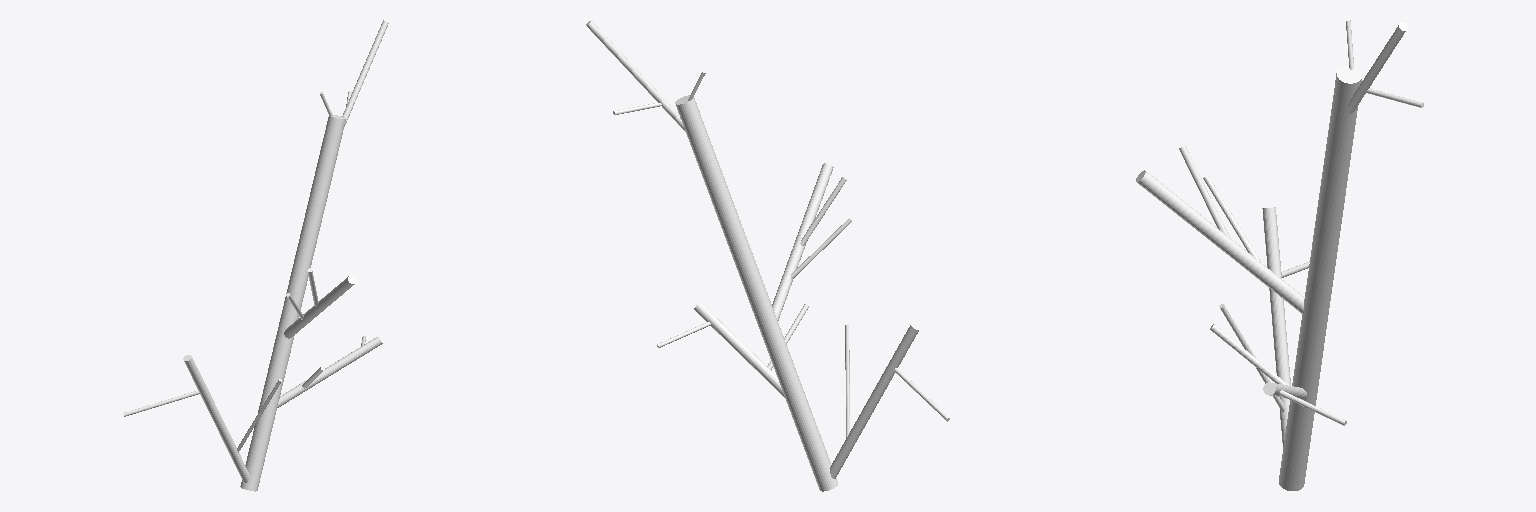
URDF robot description (tree_35.urdf):
<?xml version='1.0' encoding='UTF-8'?>
<robot name="tree_35.urdf">
  <link name="branch_0">
    <inertial>
      <origin xyz="0.0 0.0 0.0" rpy="0.0 -0.0 0.0"/>
      <mass value="1.0"/>
      <inertia ixx="1.0" ixy="0.0" ixz="0.0" iyy="1.0" iyz="0.0" izz="1.0"/>
    </inertial>
    <visual name="branch_0_visual">
      <geometry>
        <cylinder radius="0.20696832046787184" length="9.036256177488639"/>
      </geometry>
      <material name="branch_material"/>
      <origin xyz="1.4579056983918959 0.45953522203569236 4.251684346303879" rpy="1.3235847699879967e-17 0.34514073651780397 0.305344848157322"/>
    </visual>
    <collision name="branch_0_collision">
      <geometry>
        <cylinder radius="0.20696832046787184" length="9.036256177488639"/>
      </geometry>
      <origin xyz="1.4579056983918959 0.45953522203569236 4.251684346303879" rpy="1.3235847699879967e-17 0.34514073651780397 0.305344848157322"/>
    </collision>
  </link>
  <link name="branch_1">
    <inertial>
      <origin xyz="0.0 0.0 0.0" rpy="0.0 -0.0 0.0"/>
      <mass value="1.0"/>
      <inertia ixx="1.0" ixy="0.0" ixz="0.0" iyy="1.0" iyz="0.0" izz="1.0"/>
    </inertial>
    <visual name="branch_1_visual">
      <geometry>
        <cylinder radius="0.07491266490524999" length="3.5046742946559397"/>
      </geometry>
      <material name="branch_material"/>
      <origin xyz="0.0 0.0 0.0" rpy="0.0 -0.0 0.0"/>
    </visual>
    <collision name="branch_1_collision">
      <geometry>
        <cylinder radius="0.07491266490524999" length="3.5046742946559397"/>
      </geometry>
      <origin xyz="0.0 0.0 0.0" rpy="0.0 -0.0 0.0"/>
    </collision>
  </link>
  <link name="branch_2">
    <inertial>
      <origin xyz="0.0 0.0 0.0" rpy="0.0 -0.0 0.0"/>
      <mass value="1.0"/>
      <inertia ixx="1.0" ixy="0.0" ixz="0.0" iyy="1.0" iyz="0.0" izz="1.0"/>
    </inertial>
    <visual name="branch_2_visual">
      <geometry>
        <cylinder radius="0.04331342305844145" length="1.1438457299228255"/>
      </geometry>
      <material name="branch_material"/>
      <origin xyz="0.0 0.0 0.0" rpy="0.0 -0.0 0.0"/>
    </visual>
    <collision name="branch_2_collision">
      <geometry>
        <cylinder radius="0.04331342305844145" length="1.1438457299228255"/>
      </geometry>
      <origin xyz="0.0 0.0 0.0" rpy="0.0 -0.0 0.0"/>
    </collision>
  </link>
  <link name="branch_3">
    <inertial>
      <origin xyz="0.0 0.0 0.0" rpy="0.0 -0.0 0.0"/>
      <mass value="1.0"/>
      <inertia ixx="1.0" ixy="0.0" ixz="0.0" iyy="1.0" iyz="0.0" izz="1.0"/>
    </inertial>
    <visual name="branch_3_visual">
      <geometry>
        <cylinder radius="0.04" length="1.300570208248349"/>
      </geometry>
      <material name="branch_material"/>
      <origin xyz="0.0 0.0 0.0" rpy="0.0 -0.0 0.0"/>
    </visual>
    <collision name="branch_3_collision">
      <geometry>
        <cylinder radius="0.04" length="1.300570208248349"/>
      </geometry>
      <origin xyz="0.0 0.0 0.0" rpy="0.0 -0.0 0.0"/>
    </collision>
  </link>
  <link name="branch_4">
    <inertial>
      <origin xyz="0.0 0.0 0.0" rpy="0.0 -0.0 0.0"/>
      <mass value="1.0"/>
      <inertia ixx="1.0" ixy="0.0" ixz="0.0" iyy="1.0" iyz="0.0" izz="1.0"/>
    </inertial>
    <visual name="branch_4_visual">
      <geometry>
        <cylinder radius="0.10714742916243739" length="4.302904414673484"/>
      </geometry>
      <material name="branch_material"/>
      <origin xyz="0.0 0.0 0.0" rpy="0.0 -0.0 0.0"/>
    </visual>
    <collision name="branch_4_collision">
      <geometry>
        <cylinder radius="0.10714742916243739" length="4.302904414673484"/>
      </geometry>
      <origin xyz="0.0 0.0 0.0" rpy="0.0 -0.0 0.0"/>
    </collision>
  </link>
  <link name="branch_5">
    <inertial>
      <origin xyz="0.0 0.0 0.0" rpy="0.0 -0.0 0.0"/>
      <mass value="1.0"/>
      <inertia ixx="1.0" ixy="0.0" ixz="0.0" iyy="1.0" iyz="0.0" izz="1.0"/>
    </inertial>
    <visual name="branch_5_visual">
      <geometry>
        <cylinder radius="0.04305574032990792" length="2.5031812273833305"/>
      </geometry>
      <material name="branch_material"/>
      <origin xyz="0.0 0.0 0.0" rpy="0.0 -0.0 0.0"/>
    </visual>
    <collision name="branch_5_collision">
      <geometry>
        <cylinder radius="0.04305574032990792" length="2.5031812273833305"/>
      </geometry>
      <origin xyz="0.0 0.0 0.0" rpy="0.0 -0.0 0.0"/>
    </collision>
  </link>
  <link name="branch_6">
    <inertial>
      <origin xyz="0.0 0.0 0.0" rpy="0.0 -0.0 0.0"/>
      <mass value="1.0"/>
      <inertia ixx="1.0" ixy="0.0" ixz="0.0" iyy="1.0" iyz="0.0" izz="1.0"/>
    </inertial>
    <visual name="branch_6_visual">
      <geometry>
        <cylinder radius="0.04722481300612555" length="1.9477285338641974"/>
      </geometry>
      <material name="branch_material"/>
      <origin xyz="0.0 0.0 0.0" rpy="0.0 -0.0 0.0"/>
    </visual>
    <collision name="branch_6_collision">
      <geometry>
        <cylinder radius="0.04722481300612555" length="1.9477285338641974"/>
      </geometry>
      <origin xyz="0.0 0.0 0.0" rpy="0.0 -0.0 0.0"/>
    </collision>
  </link>
  <link name="branch_7">
    <inertial>
      <origin xyz="0.0 0.0 0.0" rpy="0.0 -0.0 0.0"/>
      <mass value="1.0"/>
      <inertia ixx="1.0" ixy="0.0" ixz="0.0" iyy="1.0" iyz="0.0" izz="1.0"/>
    </inertial>
    <visual name="branch_7_visual">
      <geometry>
        <cylinder radius="0.10415191692385113" length="3.0778891118124374"/>
      </geometry>
      <material name="branch_material"/>
      <origin xyz="0.0 0.0 0.0" rpy="0.0 -0.0 0.0"/>
    </visual>
    <collision name="branch_7_collision">
      <geometry>
        <cylinder radius="0.10415191692385113" length="3.0778891118124374"/>
      </geometry>
      <origin xyz="0.0 0.0 0.0" rpy="0.0 -0.0 0.0"/>
    </collision>
  </link>
  <link name="branch_8">
    <inertial>
      <origin xyz="0.0 0.0 0.0" rpy="0.0 -0.0 0.0"/>
      <mass value="1.0"/>
      <inertia ixx="1.0" ixy="0.0" ixz="0.0" iyy="1.0" iyz="0.0" izz="1.0"/>
    </inertial>
    <visual name="branch_8_visual">
      <geometry>
        <cylinder radius="0.055566261030643695" length="1.6836653443785623"/>
      </geometry>
      <material name="branch_material"/>
      <origin xyz="0.0 0.0 0.0" rpy="0.0 -0.0 0.0"/>
    </visual>
    <collision name="branch_8_collision">
      <geometry>
        <cylinder radius="0.055566261030643695" length="1.6836653443785623"/>
      </geometry>
      <origin xyz="0.0 0.0 0.0" rpy="0.0 -0.0 0.0"/>
    </collision>
  </link>
  <link name="branch_9">
    <inertial>
      <origin xyz="0.0 0.0 0.0" rpy="0.0 -0.0 0.0"/>
      <mass value="1.0"/>
      <inertia ixx="1.0" ixy="0.0" ixz="0.0" iyy="1.0" iyz="0.0" izz="1.0"/>
    </inertial>
    <visual name="branch_9_visual">
      <geometry>
        <cylinder radius="0.04413964249230568" length="1.3397467299520893"/>
      </geometry>
      <material name="branch_material"/>
      <origin xyz="0.0 0.0 0.0" rpy="0.0 -0.0 0.0"/>
    </visual>
    <collision name="branch_9_collision">
      <geometry>
        <cylinder radius="0.04413964249230568" length="1.3397467299520893"/>
      </geometry>
      <origin xyz="0.0 0.0 0.0" rpy="0.0 -0.0 0.0"/>
    </collision>
  </link>
  <link name="branch_10">
    <inertial>
      <origin xyz="0.0 0.0 0.0" rpy="0.0 -0.0 0.0"/>
      <mass value="1.0"/>
      <inertia ixx="1.0" ixy="0.0" ixz="0.0" iyy="1.0" iyz="0.0" izz="1.0"/>
    </inertial>
    <visual name="branch_10_visual">
      <geometry>
        <cylinder radius="0.11686449986985321" length="3.7576315222935524"/>
      </geometry>
      <material name="branch_material"/>
      <origin xyz="0.0 0.0 0.0" rpy="0.0 -0.0 0.0"/>
    </visual>
    <collision name="branch_10_collision">
      <geometry>
        <cylinder radius="0.11686449986985321" length="3.7576315222935524"/>
      </geometry>
      <origin xyz="0.0 0.0 0.0" rpy="0.0 -0.0 0.0"/>
    </collision>
  </link>
  <link name="branch_11">
    <inertial>
      <origin xyz="0.0 0.0 0.0" rpy="0.0 -0.0 0.0"/>
      <mass value="1.0"/>
      <inertia ixx="1.0" ixy="0.0" ixz="0.0" iyy="1.0" iyz="0.0" izz="1.0"/>
    </inertial>
    <visual name="branch_11_visual">
      <geometry>
        <cylinder radius="0.04897660889471773" length="1.8679926664004414"/>
      </geometry>
      <material name="branch_material"/>
      <origin xyz="0.0 0.0 0.0" rpy="0.0 -0.0 0.0"/>
    </visual>
    <collision name="branch_11_collision">
      <geometry>
        <cylinder radius="0.04897660889471773" length="1.8679926664004414"/>
      </geometry>
      <origin xyz="0.0 0.0 0.0" rpy="0.0 -0.0 0.0"/>
    </collision>
  </link>
  <link name="branch_12">
    <inertial>
      <origin xyz="0.0 0.0 0.0" rpy="0.0 -0.0 0.0"/>
      <mass value="1.0"/>
      <inertia ixx="1.0" ixy="0.0" ixz="0.0" iyy="1.0" iyz="0.0" izz="1.0"/>
    </inertial>
    <visual name="branch_12_visual">
      <geometry>
        <cylinder radius="0.05675337794247292" length="1.793124045749528"/>
      </geometry>
      <material name="branch_material"/>
      <origin xyz="0.0 0.0 0.0" rpy="0.0 -0.0 0.0"/>
    </visual>
    <collision name="branch_12_collision">
      <geometry>
        <cylinder radius="0.05675337794247292" length="1.793124045749528"/>
      </geometry>
      <origin xyz="0.0 0.0 0.0" rpy="0.0 -0.0 0.0"/>
    </collision>
  </link>
  <joint name="joint_0_1" type="fixed">
    <parent link="branch_0"/>
    <child link="branch_1"/>
    <axis xyz="1. 0. 0."/>
    <origin xyz="3.652005143193586 1.2956633486863358 8.87130258078962" rpy="0.09454243918187821 0.7203913277743753 0.5669625867628615"/>
  </joint>
  <joint name="joint_0_4" type="fixed">
    <parent link="branch_0"/>
    <child link="branch_4"/>
    <axis xyz="1. 0. 0."/>
    <origin xyz="-0.9115635956804848 -0.1730691095961286 2.0181888344156147" rpy="0.02651720039537815 0.4624452400701901 -2.8904821457102265"/>
  </joint>
  <joint name="joint_0_7" type="fixed">
    <parent link="branch_0"/>
    <child link="branch_7"/>
    <axis xyz="1. 0. 0."/>
    <origin xyz="1.9774457758057964 -0.07653512177841507 2.507559484592989" rpy="-0.4251001025344295 1.0621120413113643 -0.6780278696026336"/>
  </joint>
  <joint name="joint_0_10" type="fixed">
    <parent link="branch_0"/>
    <child link="branch_10"/>
    <axis xyz="1. 0. 0."/>
    <origin xyz="1.2991252590921905 -1.0090579150453098 4.751244507460532" rpy="-0.4169265729866168 0.7437117068239592 -2.075599147537165"/>
  </joint>
  <joint name="joint_1_2" type="fixed">
    <parent link="branch_0"/>
    <child link="branch_2"/>
    <axis xyz="1. 0. 0."/>
    <origin xyz="3.6058465998914278 1.6059847385184063 8.425687035002735" rpy="1.5479219412837213 1.1301200842174364 2.5302480104965106"/>
  </joint>
  <joint name="joint_1_3" type="fixed">
    <parent link="branch_0"/>
    <child link="branch_3"/>
    <axis xyz="1. 0. 0."/>
    <origin xyz="2.7252158712972046 0.9477887004220099 8.643380323578516" rpy="0.07916476929167415 0.41821378557342626 -2.766986956618463"/>
  </joint>
  <joint name="joint_4_5" type="fixed">
    <parent link="branch_0"/>
    <child link="branch_5"/>
    <axis xyz="1. 0. 0."/>
    <origin xyz="-0.10127820592997072 -0.5930582439217065 2.0948255634702995" rpy="0.3169655950394689 0.3969544252119581 -0.3268495761574542"/>
  </joint>
  <joint name="joint_4_6" type="fixed">
    <parent link="branch_0"/>
    <child link="branch_6"/>
    <axis xyz="1. 0. 0."/>
    <origin xyz="-2.2364142993250673 0.09565911837588184 2.6923965659397076" rpy="-2.4015752023423516 1.208866404001574 0.38373764082549805"/>
  </joint>
  <joint name="joint_7_8" type="fixed">
    <parent link="branch_0"/>
    <child link="branch_8"/>
    <axis xyz="1. 0. 0."/>
    <origin xyz="1.3732738459385756 -0.6211029123844904 2.7873153482651185" rpy="-0.8590831446635037 0.2690379204483534 -3.0831605869797576"/>
  </joint>
  <joint name="joint_7_9" type="fixed">
    <parent link="branch_0"/>
    <child link="branch_9"/>
    <axis xyz="1. 0. 0."/>
    <origin xyz="3.246835596711588 0.29526701782047515 2.8411066681107253" rpy="1.8040367002301108 0.5208967501424625 2.708944685484708"/>
  </joint>
  <joint name="joint_10_11" type="fixed">
    <parent link="branch_0"/>
    <child link="branch_11"/>
    <axis xyz="1. 0. 0."/>
    <origin xyz="0.760813334516469 -0.88583037769702 4.838332077188297" rpy="-0.8025645774172125 0.21569089413649273 2.5422847982108334"/>
  </joint>
  <joint name="joint_10_12" type="fixed">
    <parent link="branch_0"/>
    <child link="branch_12"/>
    <axis xyz="1. 0. 0."/>
    <origin xyz="0.9643910820101463 -1.3488227254869876 5.436799627123353" rpy="-0.6085597077402238 -0.052887530092826526 2.366940063990669"/>
  </joint>
  <material name="branch_material">
    <color rgba="1. 1. 1. 1."/>
  </material>
</robot>

--- Facts derived from the render (not from the file) ---
3 views of the same robot in one strip: view 1: azimuth 30°, elevation 25°; view 2: azimuth 150°, elevation 25°; view 3: azimuth 270°, elevation 25° (orthographic).
Model tree_35.urdf with 13 links and 12 joints (12 fixed), rooted at branch_0, posed every joint at zero.
Links seen in each view (by area): view 1: branch_0, branch_4, branch_7, branch_10, branch_1; view 2: branch_0, branch_4, branch_10, branch_7, branch_1; view 3: branch_0, branch_10, branch_4, branch_1, branch_12, branch_8, branch_11.
Boxes of the visible links, <box> form: branch_0: <box>240,115,345,491</box>; branch_4: <box>183,355,249,482</box>; branch_7: <box>277,337,382,407</box>; branch_10: <box>284,275,356,338</box>; branch_1: <box>342,20,388,126</box>; branch_0: <box>675,95,837,491</box>; branch_4: <box>830,323,919,478</box>; branch_10: <box>772,163,833,320</box>; branch_7: <box>694,303,784,397</box>; branch_1: <box>586,21,685,131</box>; branch_0: <box>1279,66,1361,490</box>; branch_10: <box>1136,170,1304,313</box>; branch_4: <box>1262,207,1290,446</box>; branch_1: <box>1348,22,1407,113</box>; branch_12: <box>1179,146,1229,237</box>; branch_8: <box>1210,324,1288,385</box>; branch_11: <box>1203,176,1260,261</box>.
Bounding box of the posed robot: 7.9 × 4.58 × 10.3 m (x, y, z).
Geometry: primitives only (box / cylinder / sphere), no mesh files.